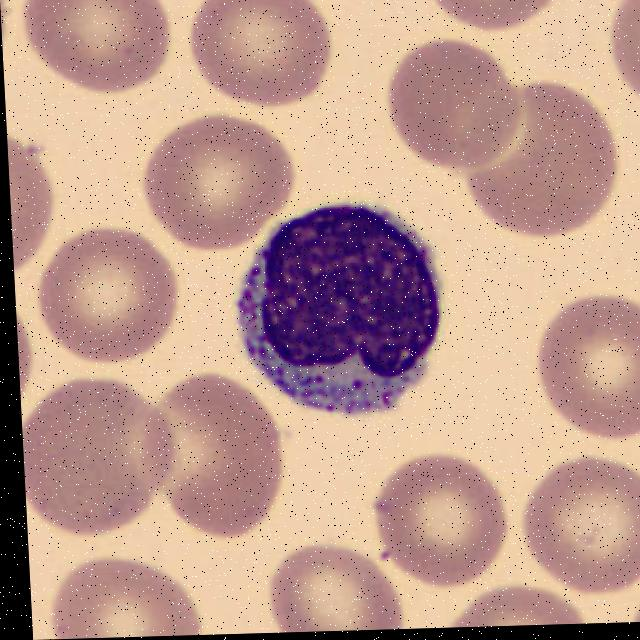lymphocyte: (226, 210, 452, 428)
rbc: (458, 84, 618, 241), (24, 381, 167, 551), (368, 450, 511, 588), (521, 285, 640, 441), (151, 377, 278, 522), (27, 235, 175, 357), (139, 122, 282, 238), (184, 0, 335, 107), (386, 42, 512, 168), (20, 0, 169, 97), (526, 462, 640, 584), (30, 568, 204, 640), (264, 544, 400, 633), (6, 122, 56, 266), (424, 0, 567, 49), (446, 587, 593, 628), (608, 0, 640, 111), (17, 319, 50, 409), (1, 0, 16, 53), (626, 580, 640, 622)
